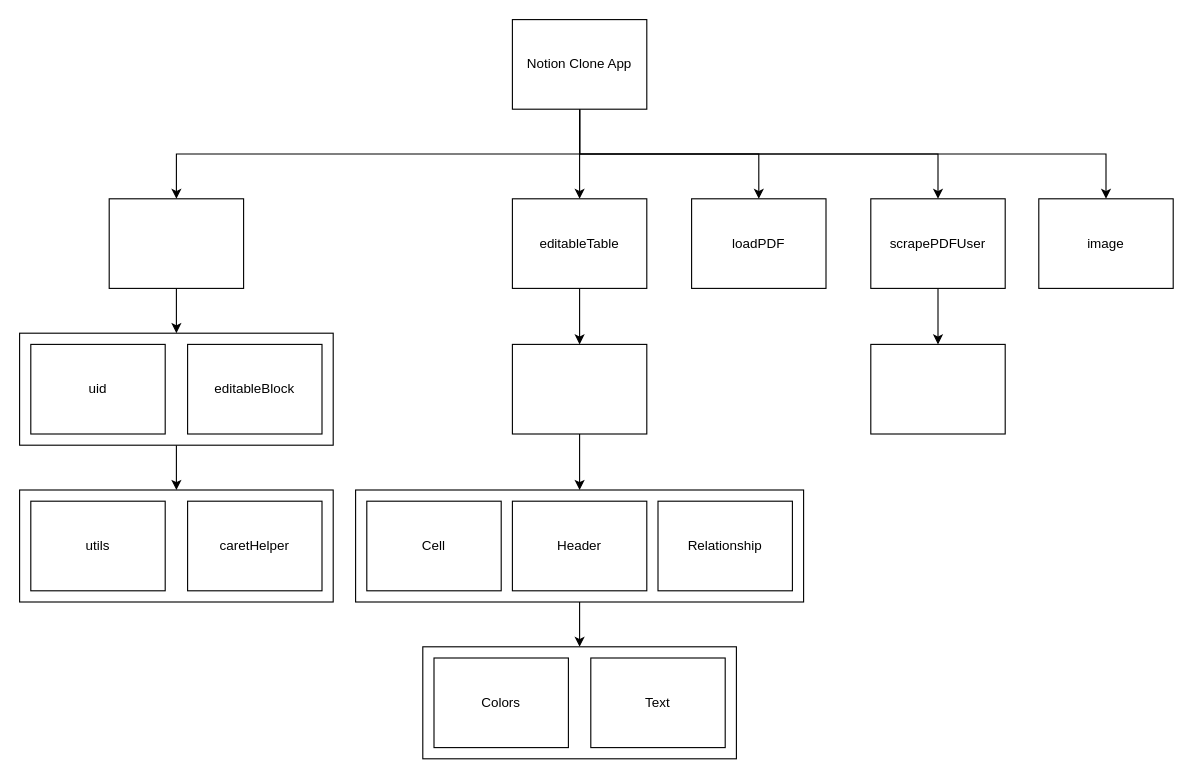
Some shapes in this 1193 by 778 pixel diagram are drawn without their labels. Each missing label, with the centre of its shape:
editablePage: point 176,243
PSFScraper: point 937,388
Table: point 579,388
